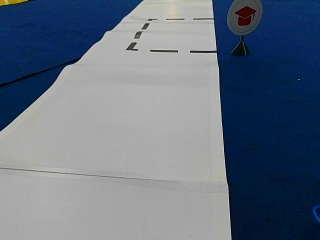school: (226, 2, 262, 35)
